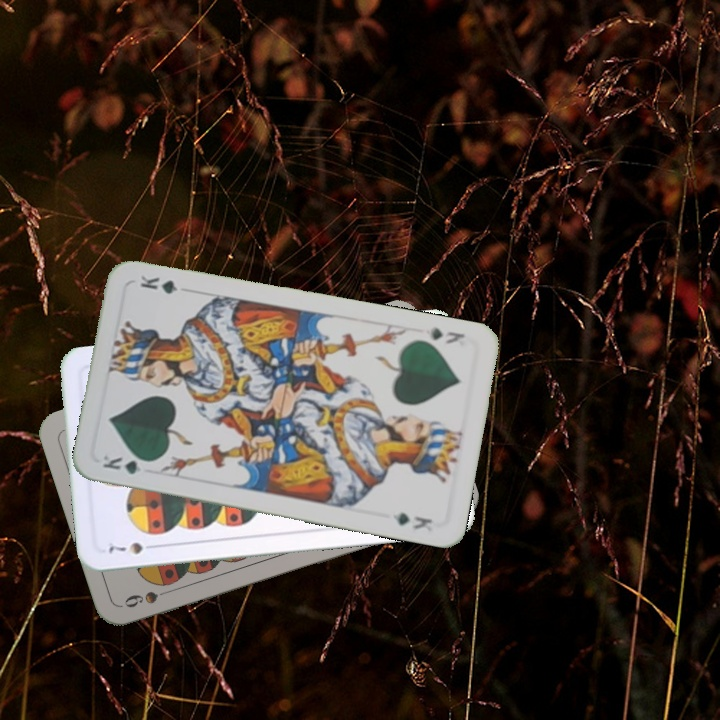GK: (98, 451, 156, 477), (426, 323, 467, 346)
S7: (102, 538, 160, 557)
S9: (120, 584, 178, 611)
